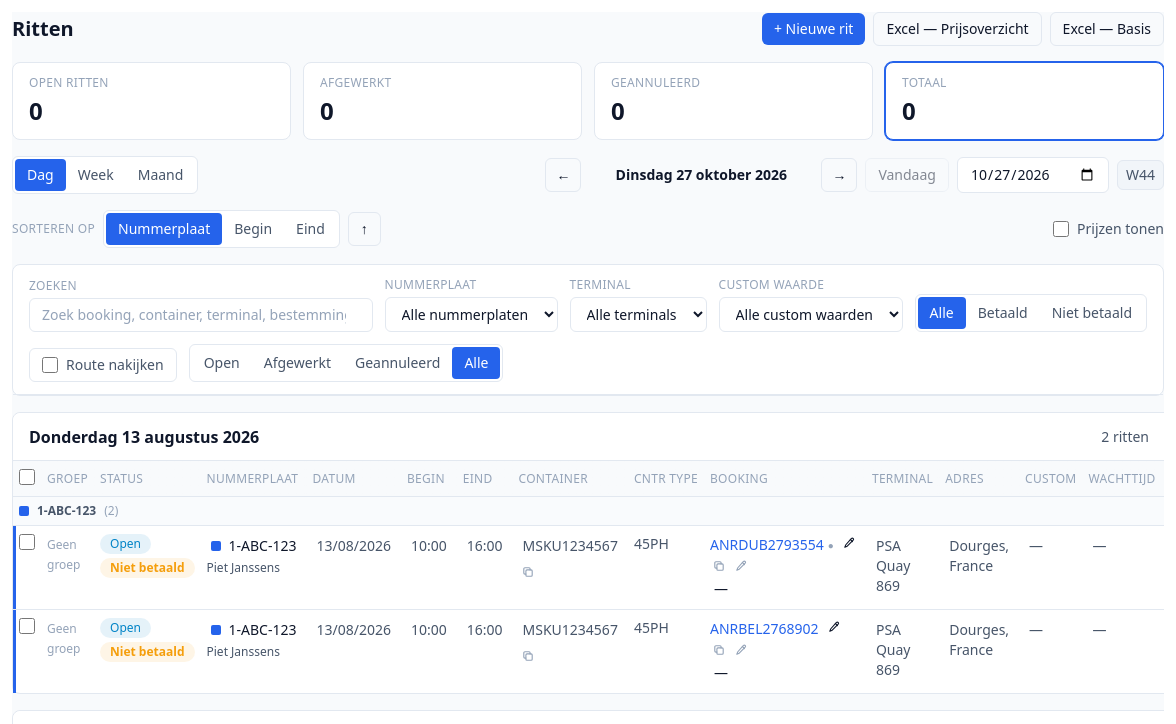
Test: the booking number's notes › shows the note when the booking number is hovered
Hover over the link "ANRDUB2793554": (767, 544) left=710, top=534, right=824, bottom=554
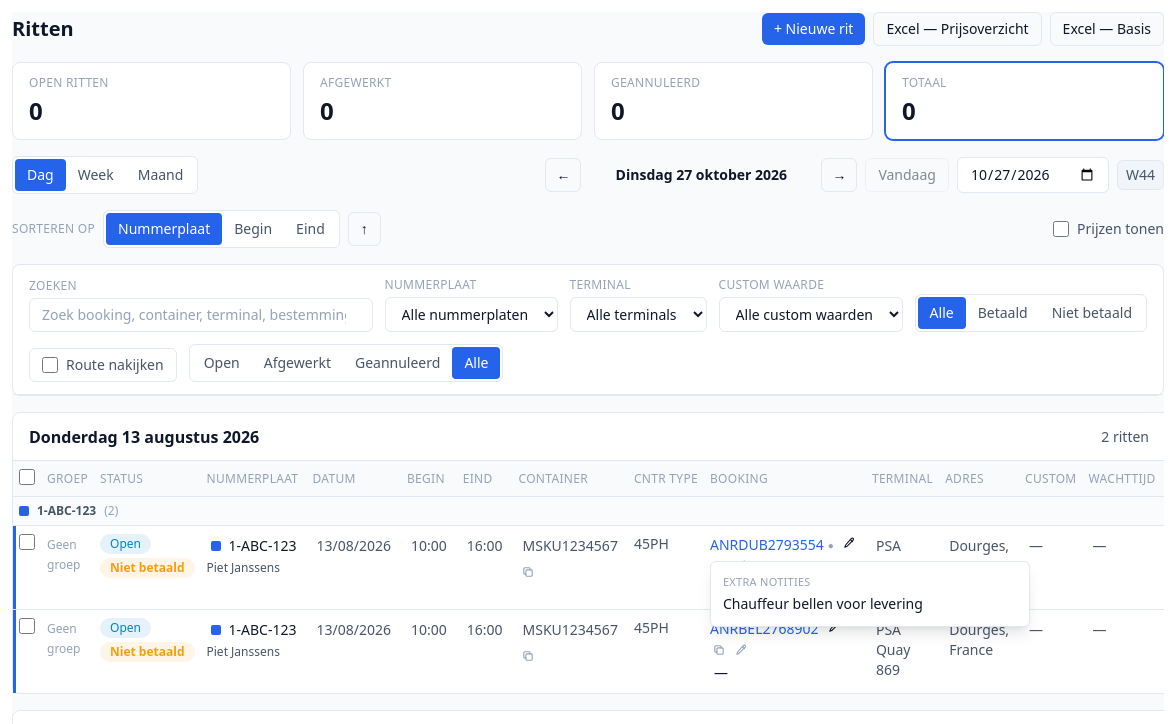
Result: the tooltip shows "Chauffeur bellen voor levering" at left=723, top=594, right=923, bottom=613
